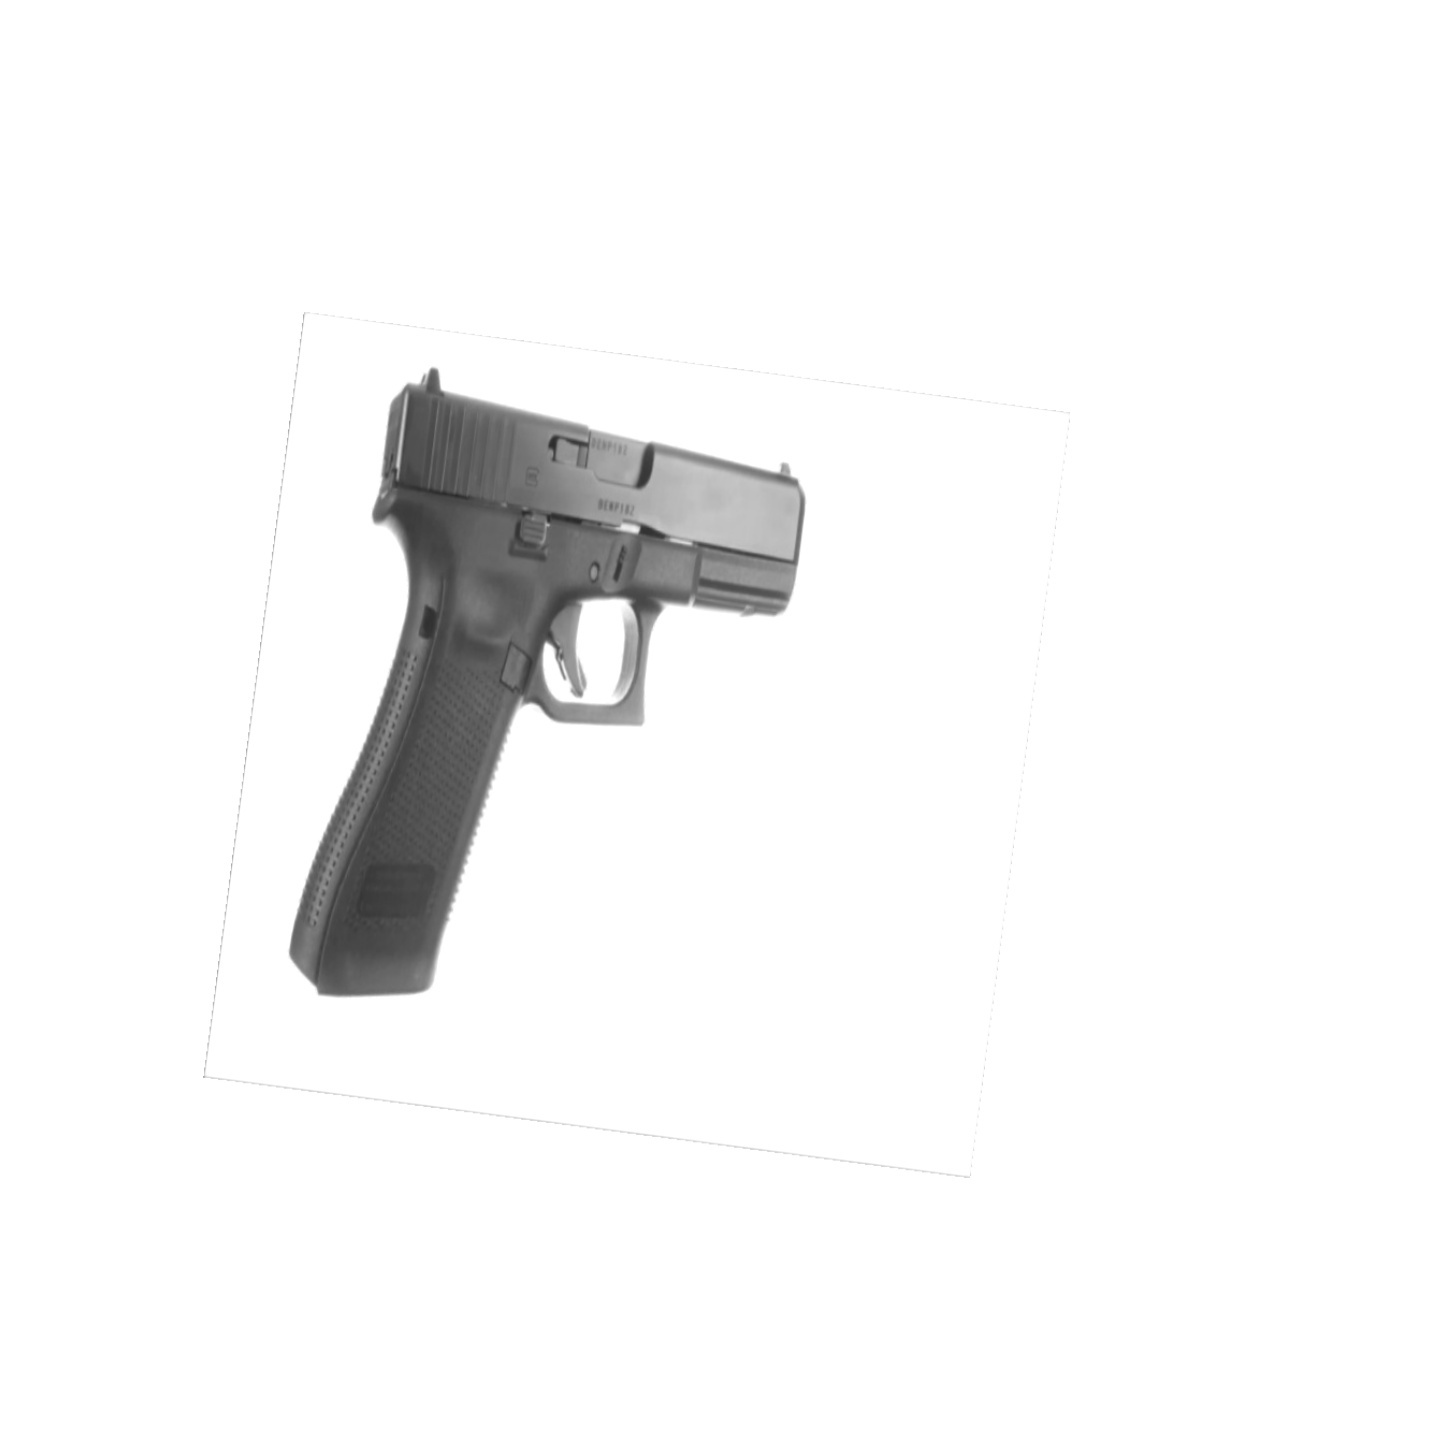gun: (267, 358, 828, 1014)
